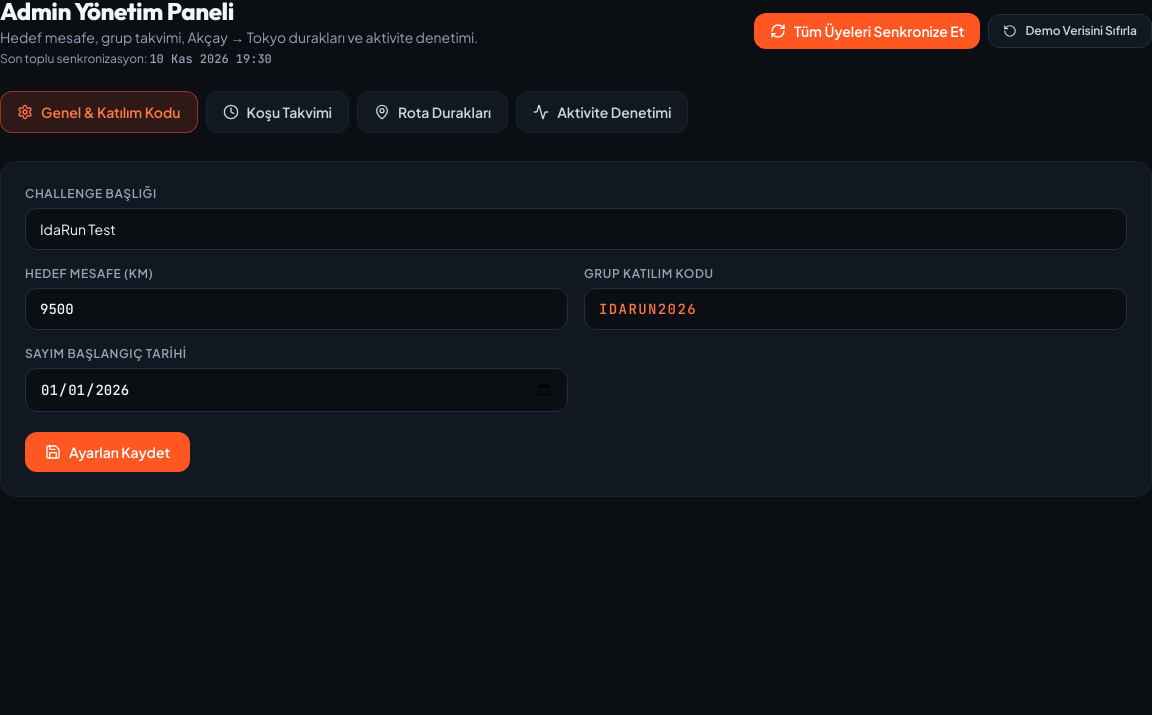
Test: AdminPanel toplu senkronizasyon ve zamanlama parametreleri › admin manuel toplu senkronizasyon butonunu çalıştırır ve zamanlama önizlemesini gösterir
Click the button with id "admin-batch-sync-btn" at point(867, 31), box x1=754 y1=13 x2=980 y2=49
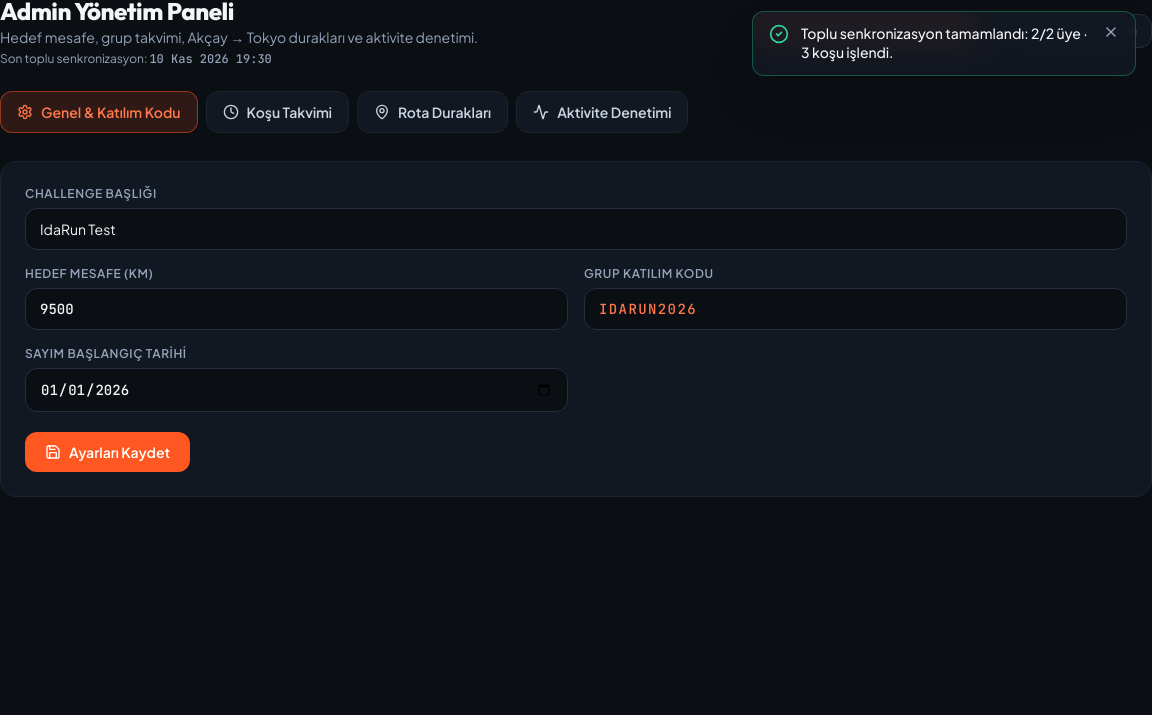
Click the button "Koşu Takvimi" at point(277, 112), box x1=206 y1=91 x2=349 y2=133
(page scrolled)
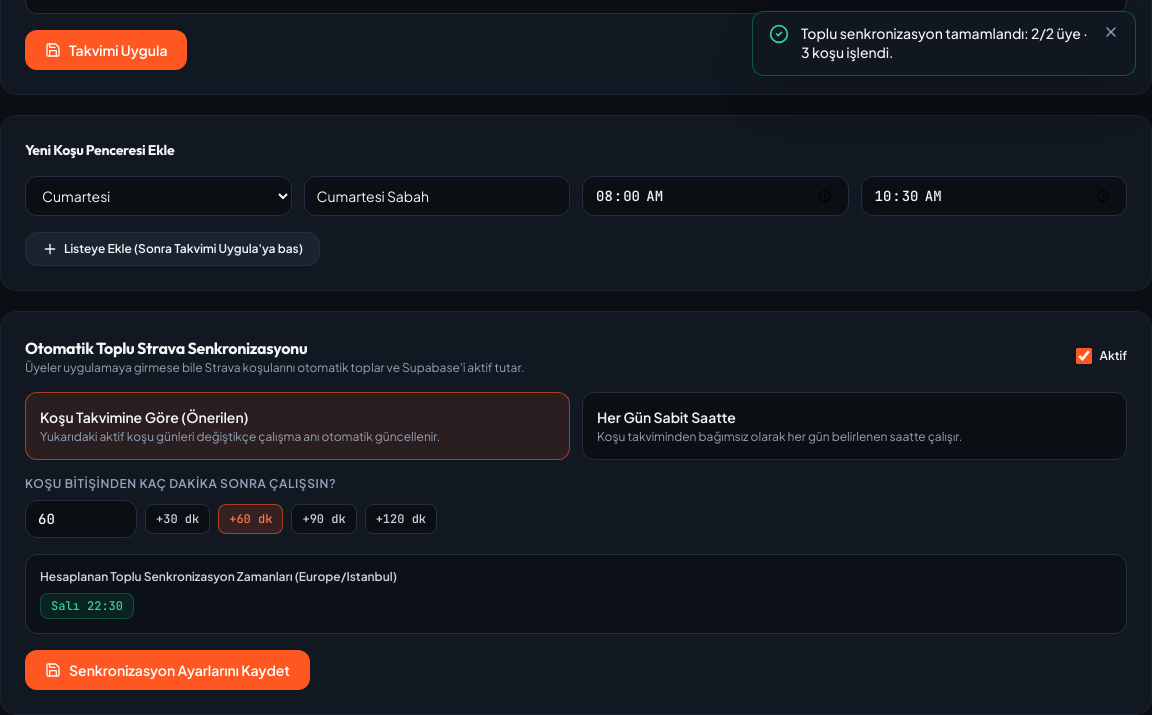
expect the heading "Otomatik Toplu Strava Senkronizasyonu" is shown: met, box x1=25 y1=338 x2=307 y2=358
expect the text "Salı 22:30" is shown: met, box x1=40 y1=593 x2=134 y2=619
